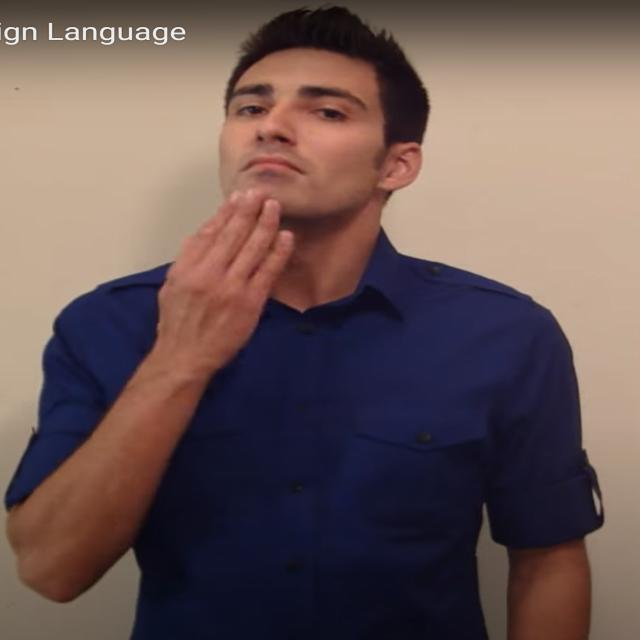thank-you: (158, 188, 296, 370)
